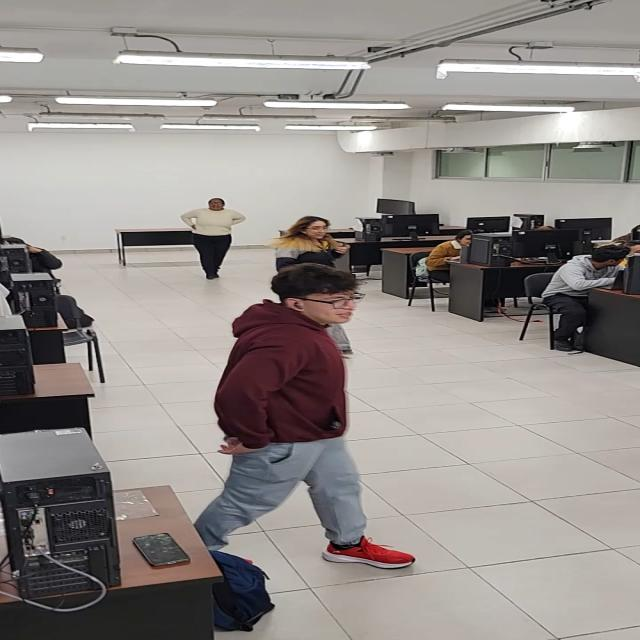Persona: (202, 263, 423, 579), (269, 214, 354, 319), (178, 190, 249, 282)
